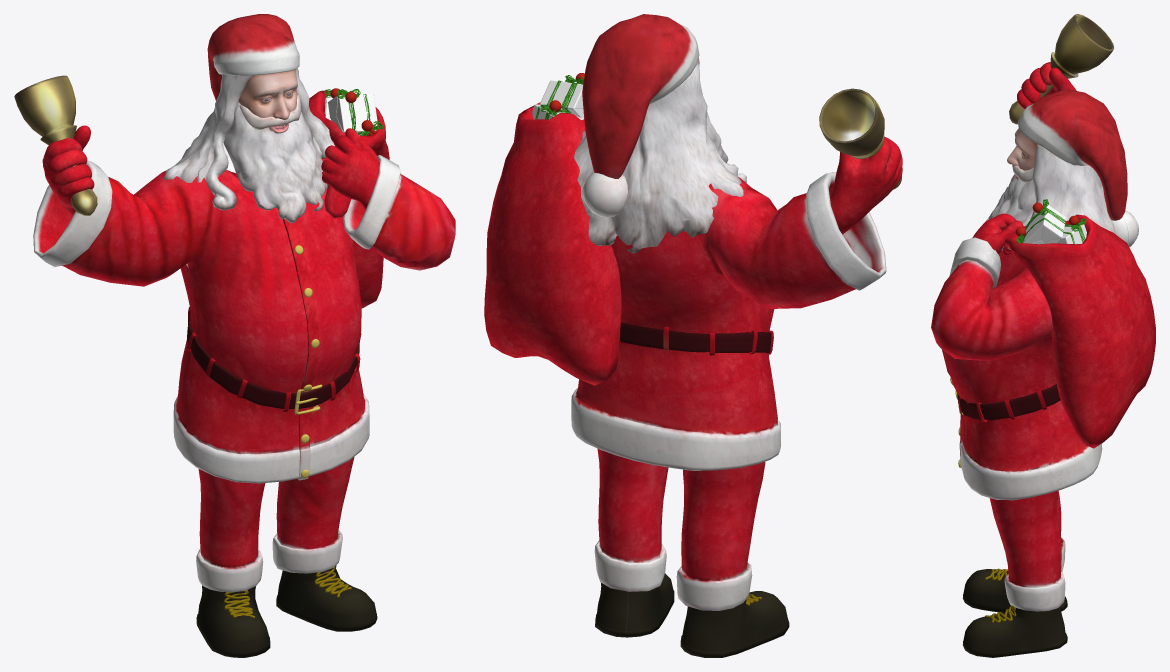
File: turbine.glb
The picture shows the model from 3 angles, left to right: view 1: azimuth 30°, elevation 25°; view 2: azimuth 150°, elevation 25°; view 3: azimuth 270°, elevation 25°; orthographic projection. The views are drawn at different scales.
Visible parts, largest first — view 1: Mod_Santa, Mod_Santa_Mat_Santa_0.001; view 2: Mod_Santa, Mod_Santa_Mat_Santa_0.001; view 3: Mod_Santa, Mod_Santa_Mat_Santa_0.001.
Boxes of the visible parts, x1=… form: Mod_Santa: x1=14, y1=14, x2=455, y2=657; Mod_Santa_Mat_Santa_0.001: x1=84, y1=88, x2=382, y2=215; Mod_Santa: x1=484, y1=14, x2=902, y2=657; Mod_Santa_Mat_Santa_0.001: x1=532, y1=73, x2=584, y2=120; Mod_Santa: x1=931, y1=14, x2=1155, y2=657; Mod_Santa_Mat_Santa_0.001: x1=1011, y1=120, x2=1086, y2=244.
Size of the model in its own units: 1.96 by 2.97 by 1.14.
Materials: 1 (1 with a texture image).
